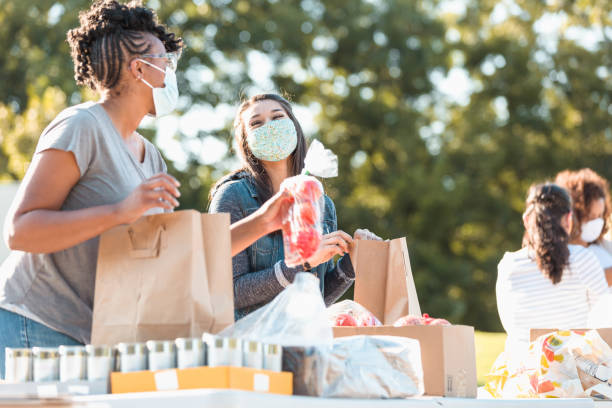with mask: (90, 21, 192, 116), (233, 81, 306, 167), (550, 171, 612, 247)
